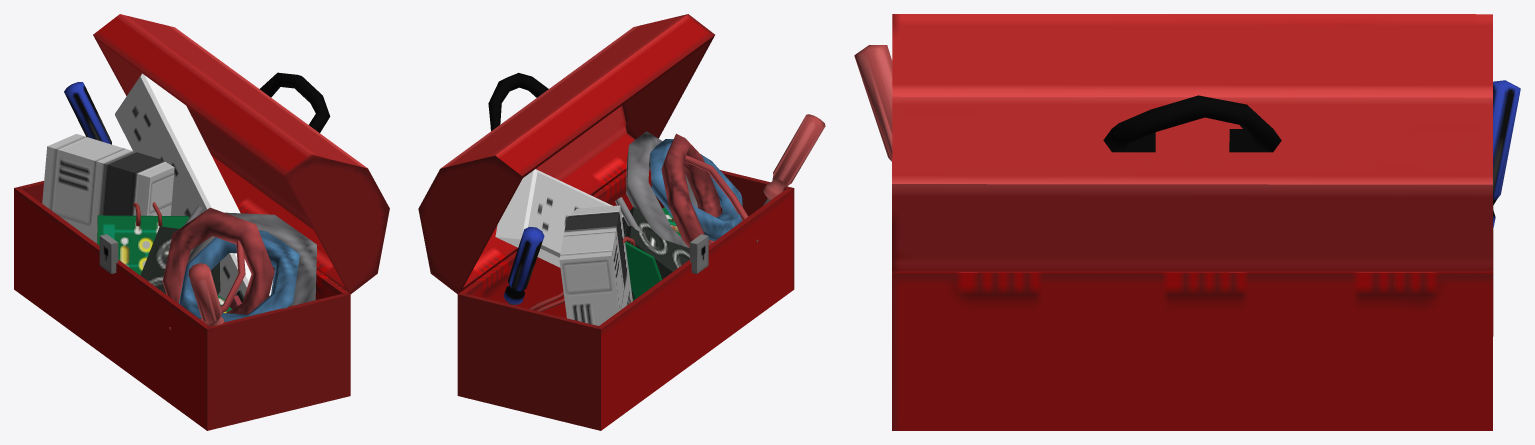
File: EngiToolbox_Mesh.fbx
The picture shows the model from 3 angles, left to right: view 1: azimuth 30°, elevation 25°; view 2: azimuth 150°, elevation 25°; view 3: azimuth 270°, elevation 25°; orthographic projection. The views are drawn at different scales.
Parts seen in each view (by area): view 1: ToolBox_Ground; view 2: ToolBox_Ground; view 3: ToolBox_Ground.
Boxes of the visible parts, x1=… form: ToolBox_Ground: x1=14, y1=14, x2=389, y2=430; ToolBox_Ground: x1=418, y1=14, x2=825, y2=430; ToolBox_Ground: x1=854, y1=14, x2=1520, y2=430.
Bounding box in the file's own units: 43.27 × 46.41 × 72.18.
